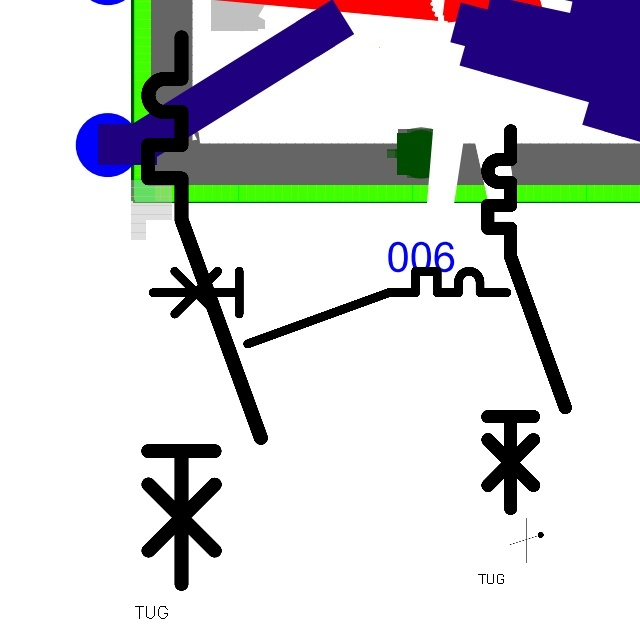interruptor_termomagnetico: (134, 23, 274, 597), (478, 121, 575, 518), (144, 262, 516, 353)
